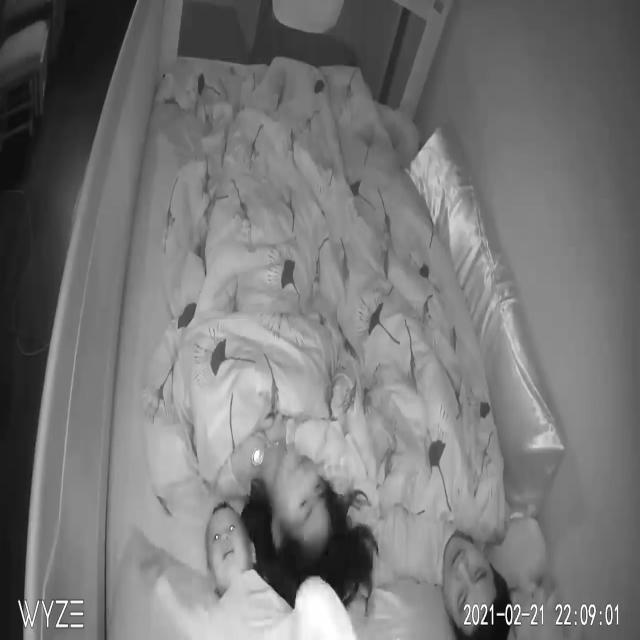baby: (146, 497, 361, 640)
